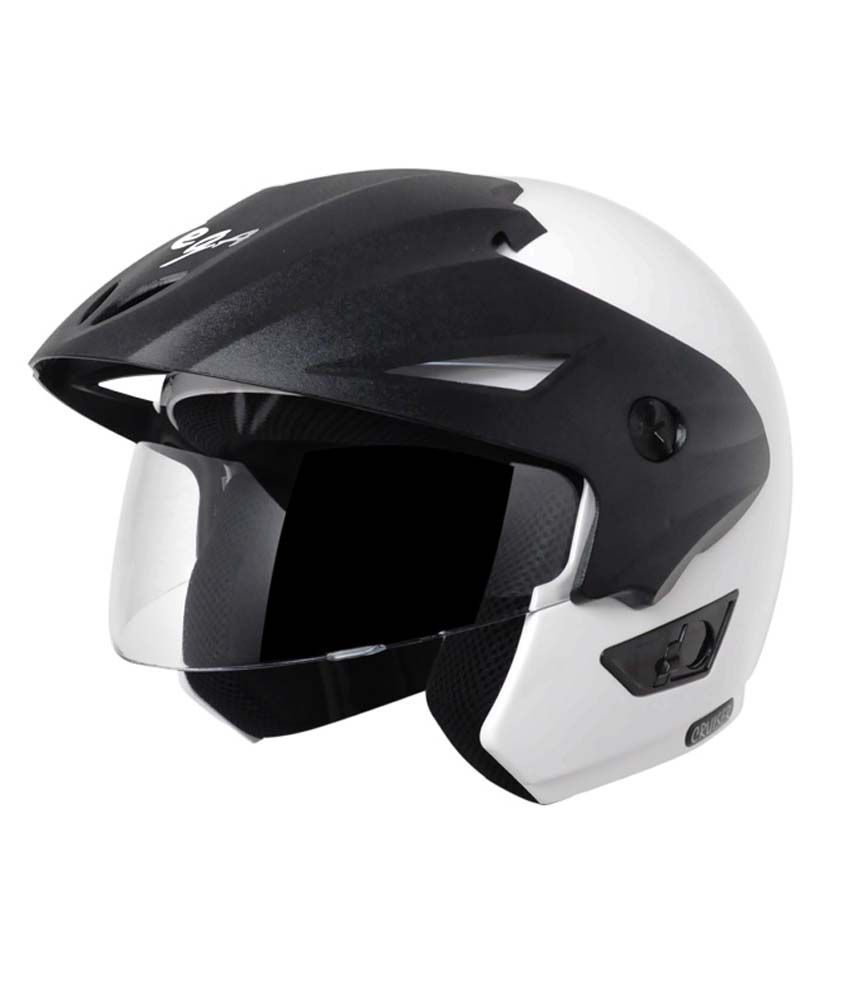helmet: (40, 158, 800, 814)
